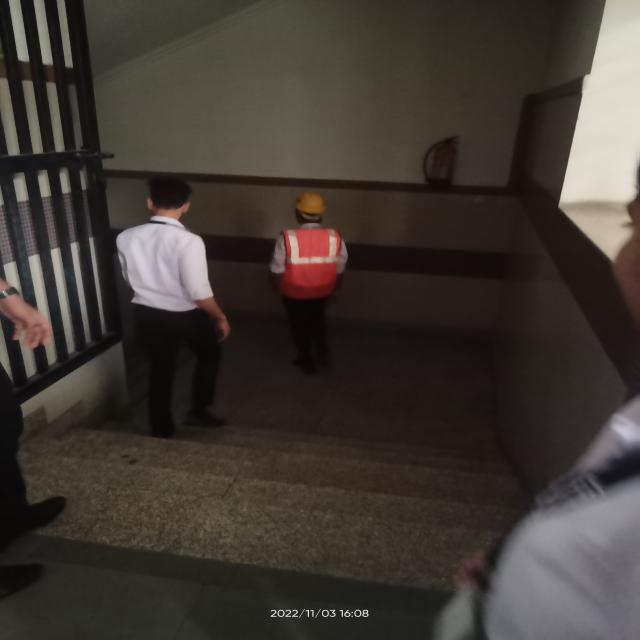safe: (272, 191, 354, 378)
unsafe: (111, 174, 224, 433)
